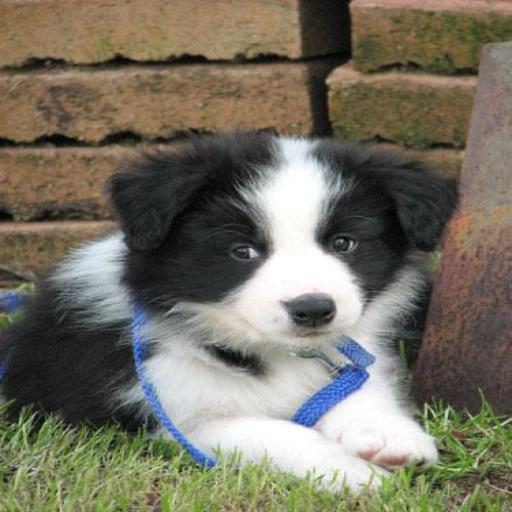dog_face: (117, 134, 444, 330)
